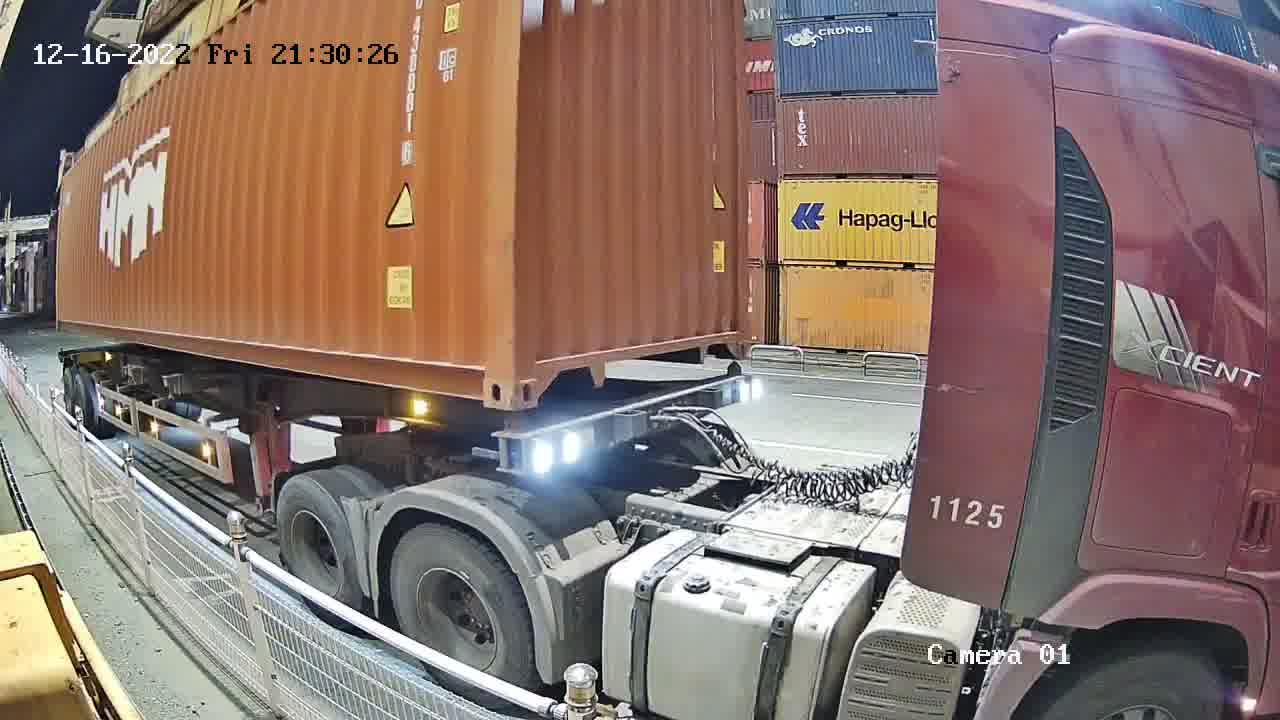Chassis: (521, 379, 755, 482)
Cone: (488, 432, 527, 484)
Container: (516, 308, 750, 412)
Hole_L: (516, 337, 555, 412)
Hole_R: (454, 334, 515, 412), (724, 308, 749, 357)
Tire: (391, 530, 532, 688), (278, 481, 360, 608)
